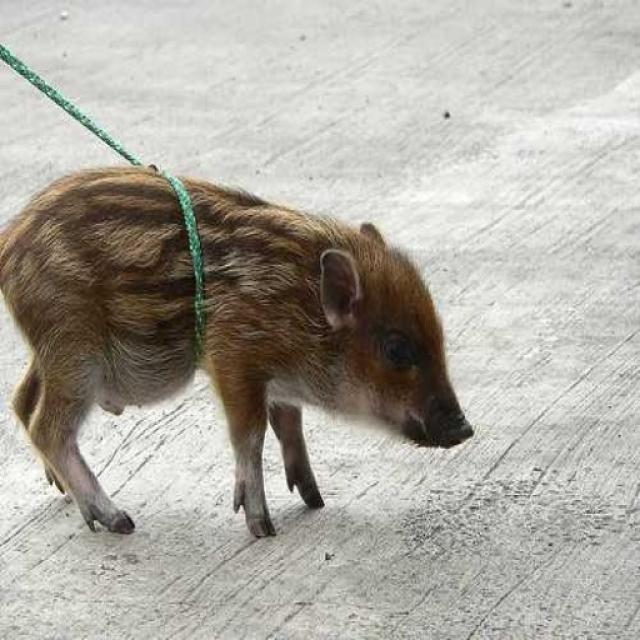pig: (0, 124, 523, 580)
